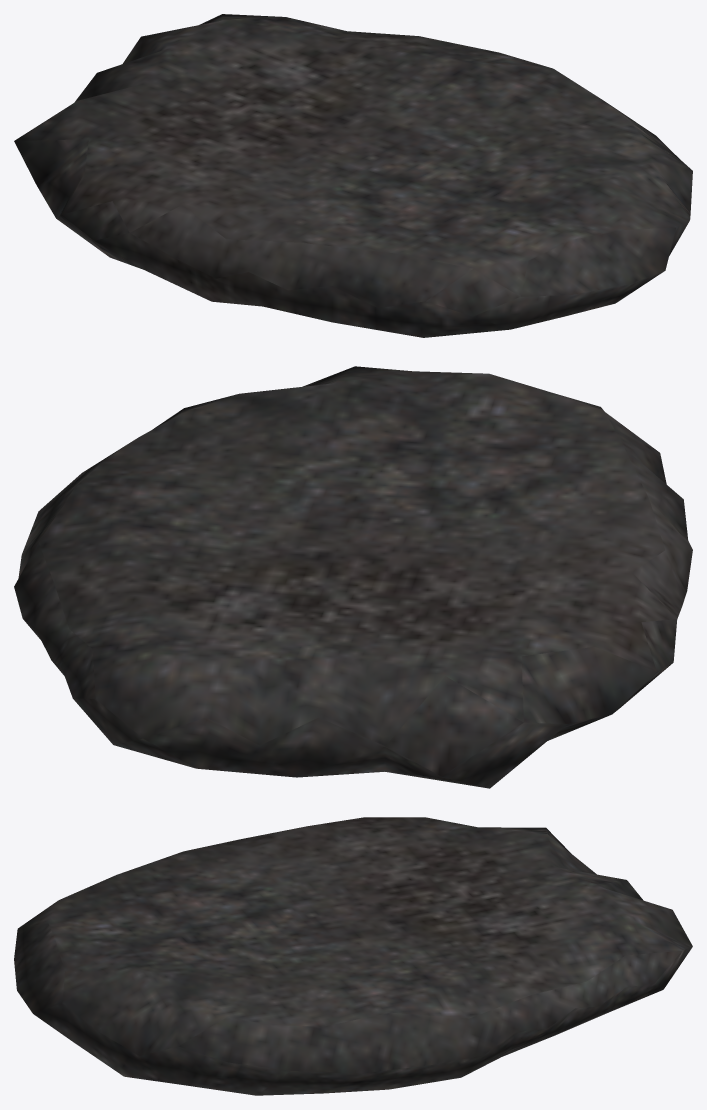
File: rock 13.glb
3 views of the same model, one above another, from view 1: azimuth 30°, elevation 25°; view 2: azimuth 150°, elevation 25°; view 3: azimuth 270°, elevation 25° (orthographic). The views are drawn at different scales.
Visible parts, largest first — view 1: AR13; view 2: AR13; view 3: AR13.
Boxes of the visible parts, bbox=[...] form: AR13: bbox=[14, 14, 692, 337]; AR13: bbox=[14, 366, 692, 788]; AR13: bbox=[14, 817, 692, 1095].
Size of the model in its own units: 12.71 by 2.24 by 15.08.
1 material, 1 textured.
